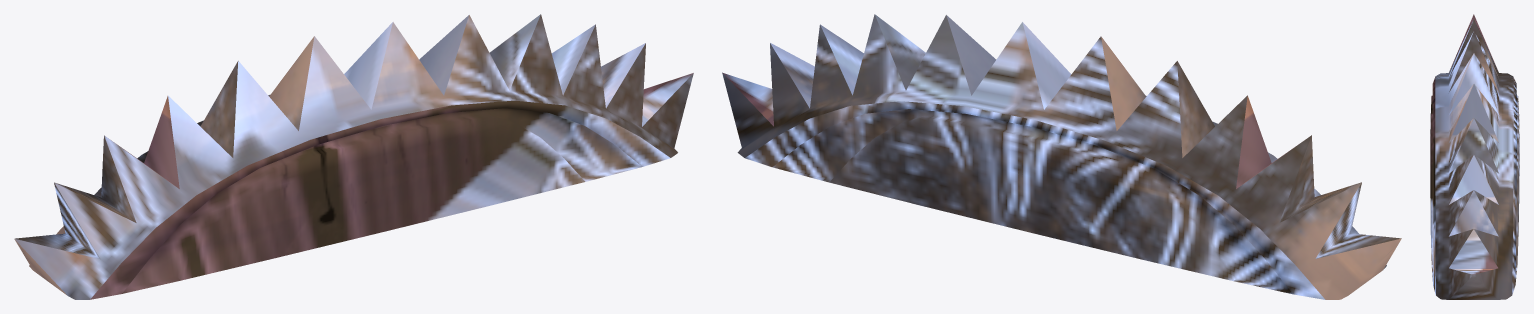
Rendered from spike1.fbx.
The picture shows the model from 3 angles, left to right: view 1: azimuth 30°, elevation 25°; view 2: azimuth 150°, elevation 25°; view 3: azimuth 270°, elevation 25°; orthographic projection. The views are drawn at different scales.
Visible parts, largest first — view 1: untitled; view 2: untitled; view 3: untitled.
Part boxes in pixels (left/top/right/bottom): untitled: left=14, top=14, right=693, bottom=299; untitled: left=722, top=14, right=1401, bottom=299; untitled: left=1430, top=14, right=1519, bottom=299.
Size of the model in its own units: 224 by 57.64 by 36.19.
